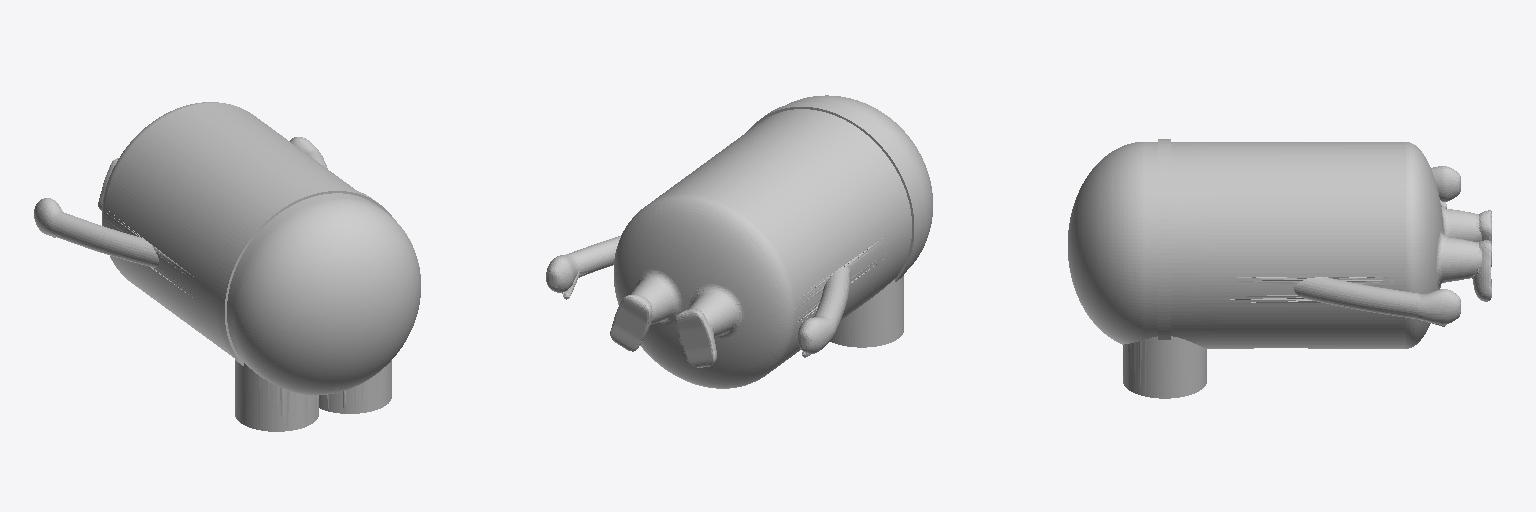
File: 86250-minion_Clustering_50pct.obj
3 views of the same model, side by side, from view 1: azimuth 30°, elevation 25°; view 2: azimuth 150°, elevation 25°; view 3: azimuth 270°, elevation 25° (orthographic).
Bounding box in the file's own units: 0.7522 × 0.556 × 1.